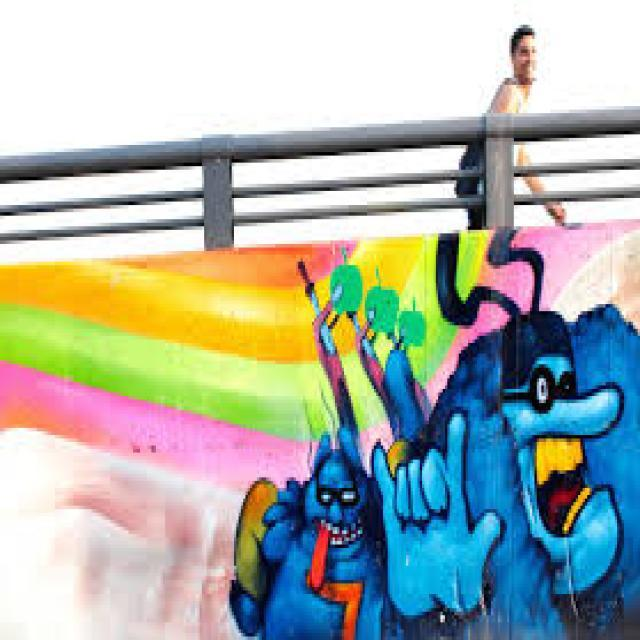-: (1, 226, 640, 496), (236, 232, 640, 640)
